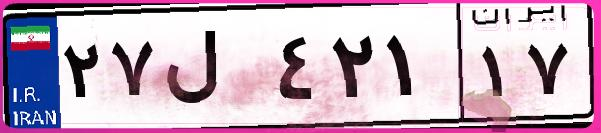1: (385, 28, 445, 110), (475, 38, 525, 113)
2: (330, 28, 385, 110), (57, 26, 110, 100)
4: (270, 28, 330, 110)
7: (525, 38, 570, 115), (110, 28, 158, 98)
ل: (158, 20, 270, 120)
